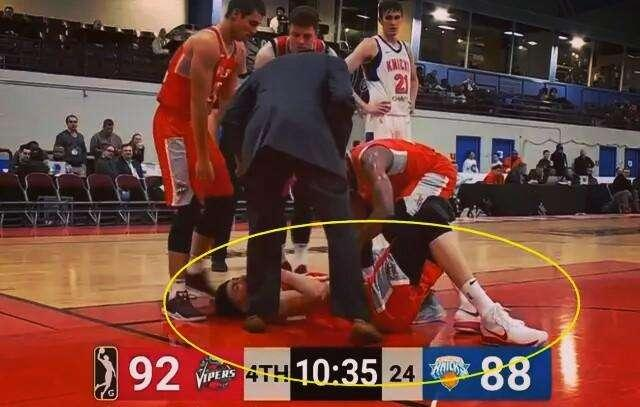10+: (9, 1, 638, 351)
down: (202, 185, 548, 358)
